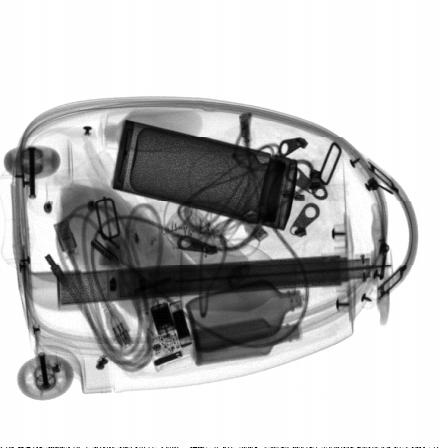Sprayer: (166, 205, 257, 296)
